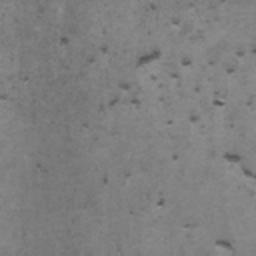Oxide scale of temperature system: (99, 1, 256, 180), (214, 237, 237, 256), (156, 193, 166, 206), (59, 35, 70, 46), (100, 174, 110, 186)
